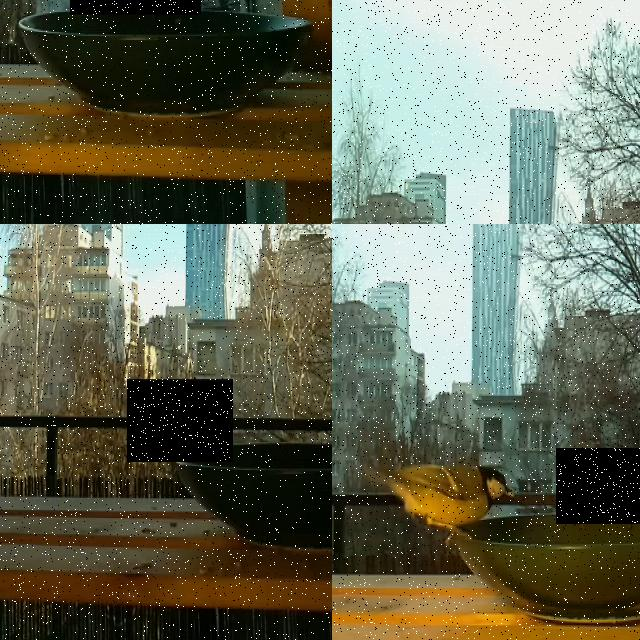Bogatka: (360, 456, 513, 536)
Modraszka: (127, 379, 233, 462)
Wrobel: (556, 448, 640, 524)
